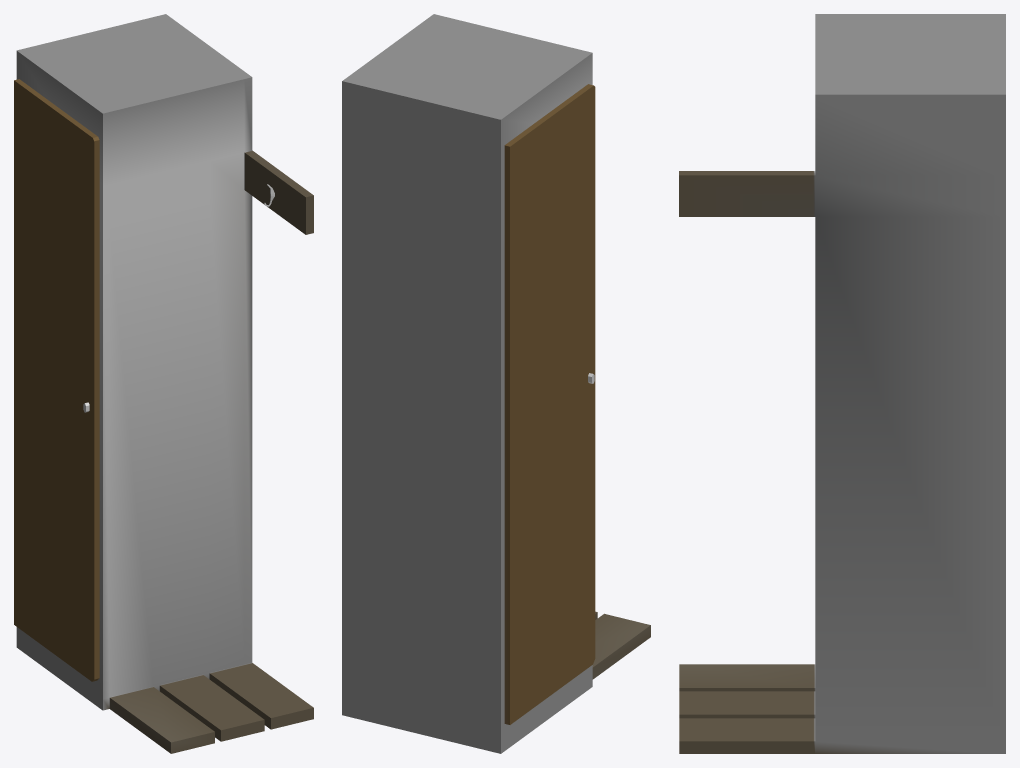
Rendered from SkanskaLocker.fbx.
3 views of the same model, side by side, from view 1: azimuth 30°, elevation 25°; view 2: azimuth 150°, elevation 25°; view 3: azimuth 270°, elevation 25° (orthographic). The views are drawn at different scales.
Visible parts, largest first — view 1: Locker; view 2: Locker; view 3: Locker.
Part boxes in pixels (x1=…): Locker: x1=14, y1=14, x2=313, y2=753; Locker: x1=342, y1=14, x2=650, y2=753; Locker: x1=679, y1=14, x2=1005, y2=753.
Size of the model in its own units: 44.67 by 160 by 72.04.
